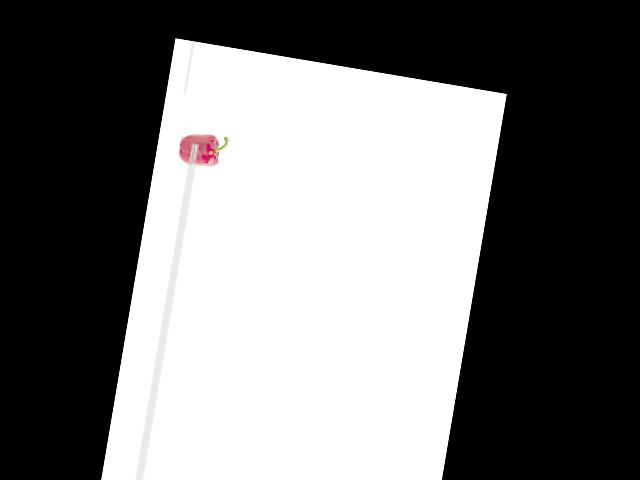bell_pepper: (178, 125, 232, 173)
